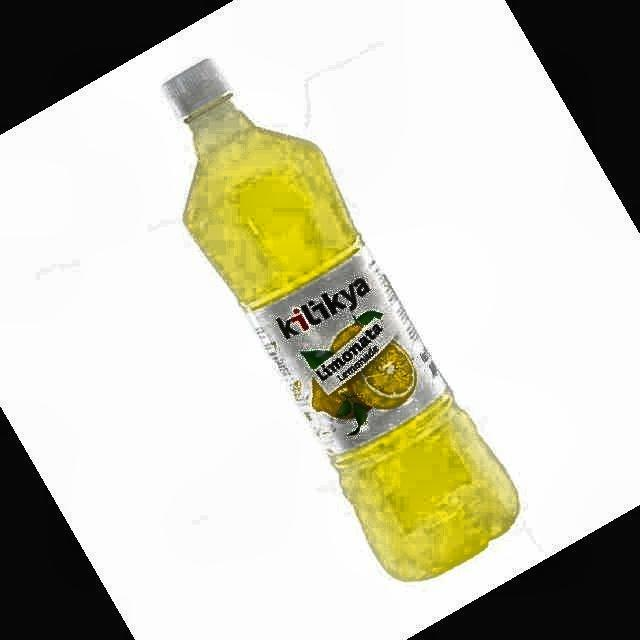plastic: (165, 60, 518, 580)
